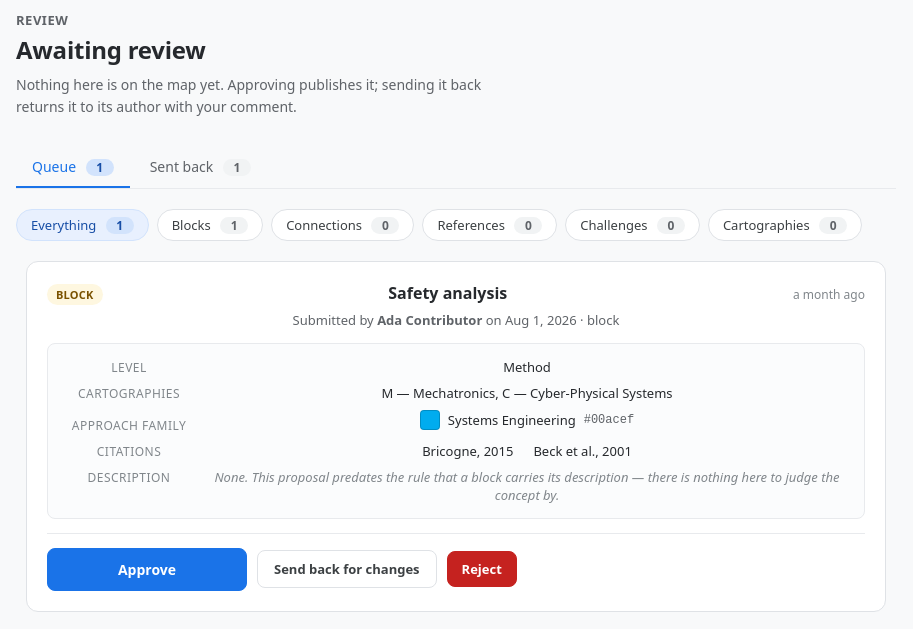
the queue › keeps sent-back submissions out of the queue and in their own view
Expected: the text "Safety analysis" is shown, [388, 282, 507, 304]
Expected: the text "Waiting on Ada" is not shown
Step 1. Click the tab "Sent back 1" → (200, 167), box [134, 147, 267, 188]
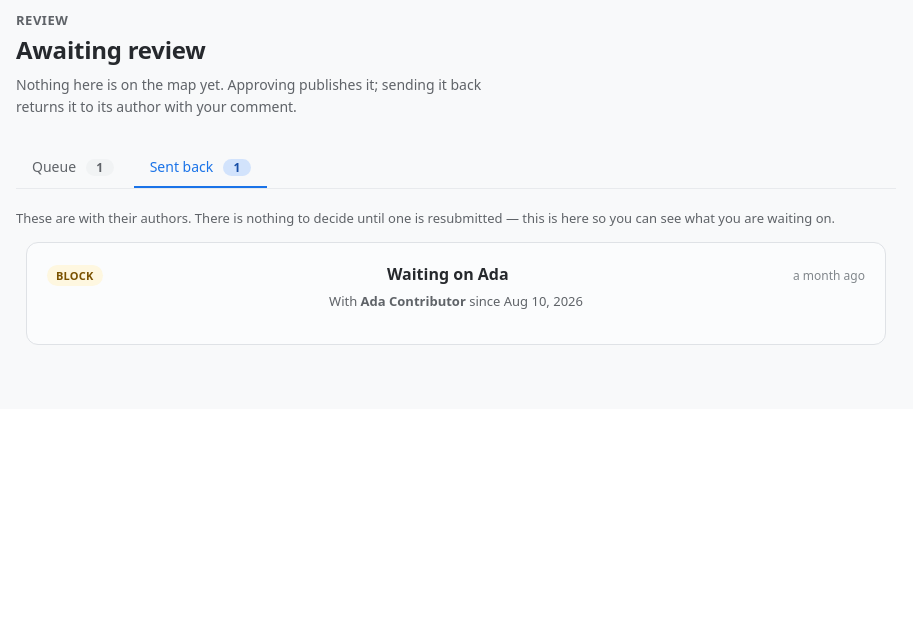
Expected: the text "Waiting on Ada" is shown, [387, 263, 509, 285]
Expected: the text "These are with their authors" is shown, [16, 209, 835, 227]
Expected: the button "Approve" is gone
